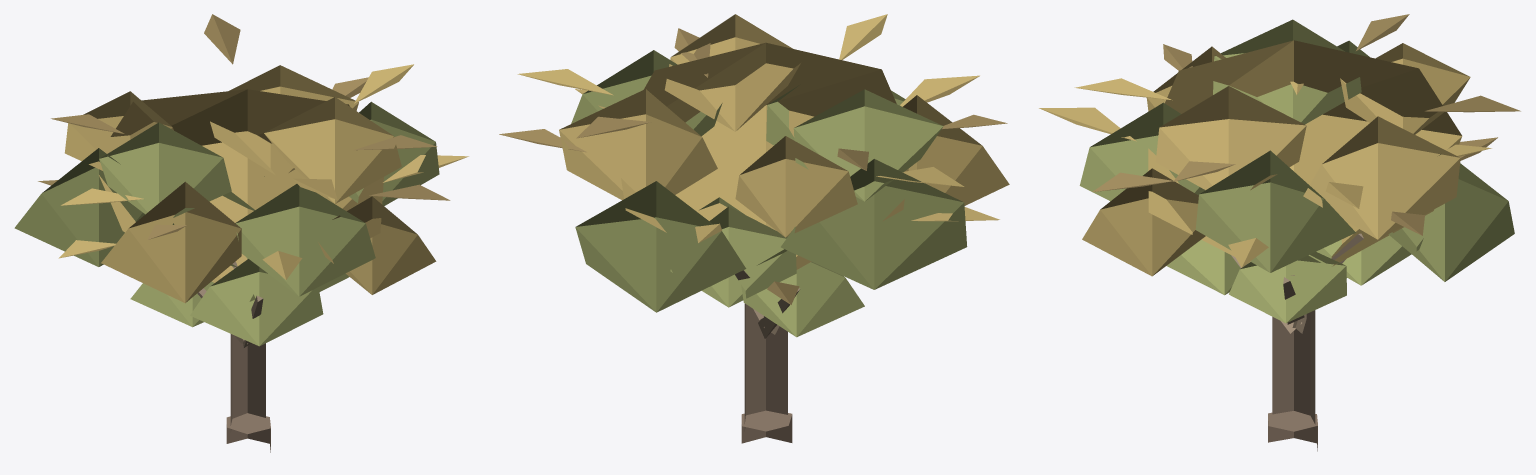
The model's file is shu.fenghuang@subadult__autumn.glb.
3 renders of one model, left to right at view 1: azimuth 30°, elevation 25°; view 2: azimuth 150°, elevation 25°; view 3: azimuth 270°, elevation 25°, orthographic. The views are drawn at different scales.
Visible parts, largest first — view 1: shu.fenghuang@subadult__autumn; view 2: shu.fenghuang@subadult__autumn; view 3: shu.fenghuang@subadult__autumn.
Boxes of the visible parts, x1,y1,x2,y2 form: shu.fenghuang@subadult__autumn: (14,14,468,452); shu.fenghuang@subadult__autumn: (499,14,1009,443); shu.fenghuang@subadult__autumn: (1039,14,1520,451).
Size of the model in its own units: 7.83 by 6.64 by 7.39.
